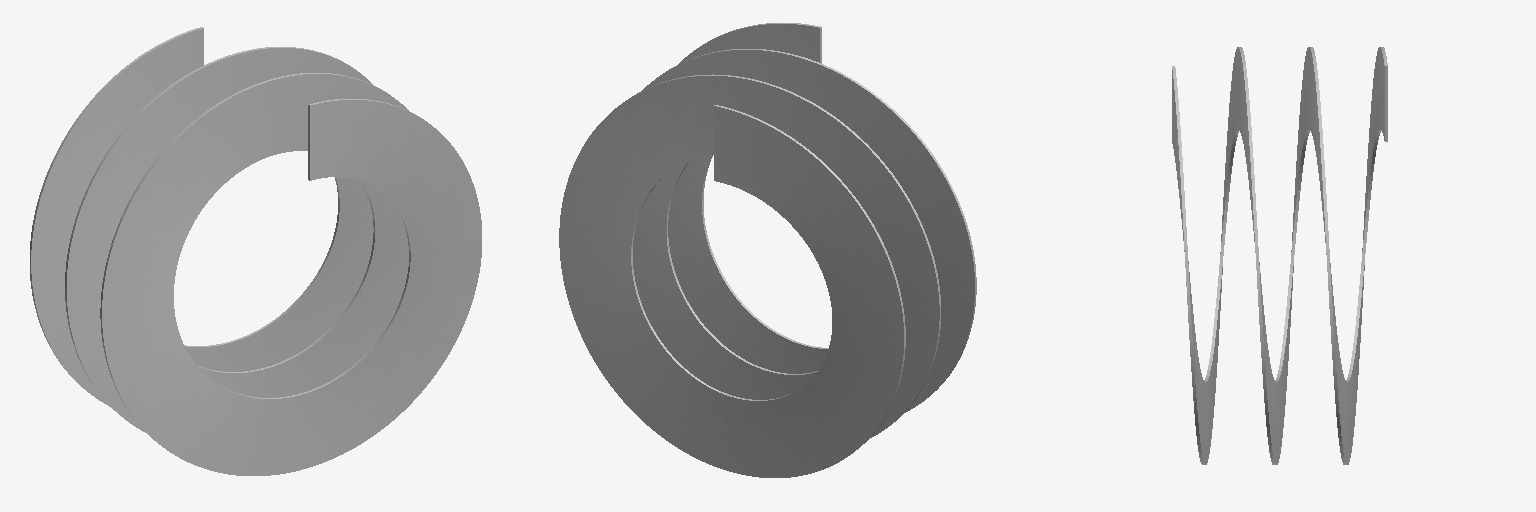
File: HELIX.obj
3 renders of one model, left to right at view 1: azimuth 30°, elevation 25°; view 2: azimuth 150°, elevation 25°; view 3: azimuth 270°, elevation 25°, orthographic.
Visible parts, largest first — view 1: Free Form Element; view 2: Free Form Element; view 3: Free Form Element.
Part boxes in pixels (x1,y1,x2,y2): Free Form Element: (30,27,481,475); Free Form Element: (559,23,976,477); Free Form Element: (1172,47,1387,464).
Bounding box in the file's own units: 27.18 × 27.18 × 14.02.